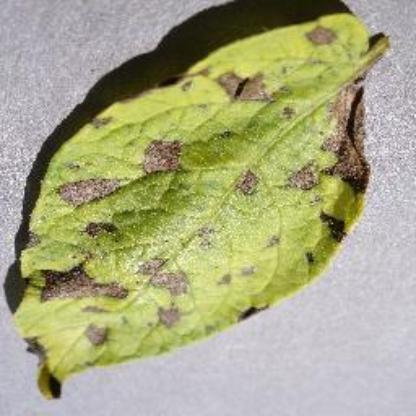Early-Blight: (16, 9, 398, 399)
